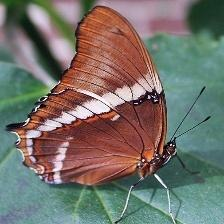butterfly: (7, 6, 177, 186)
